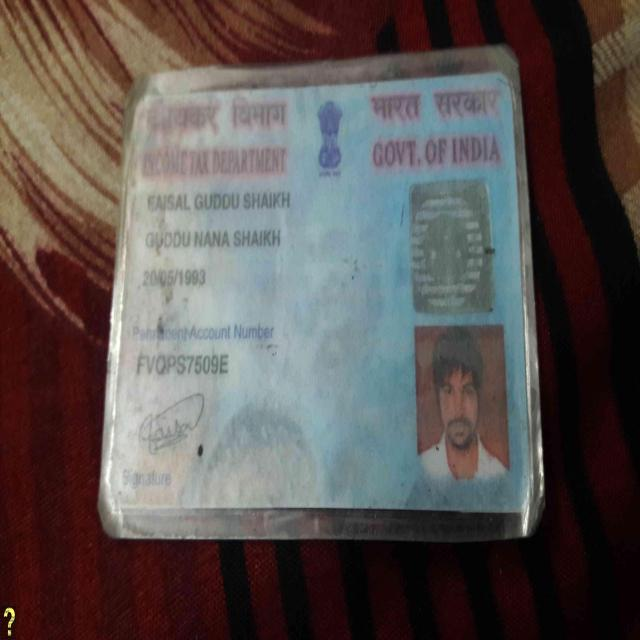pan_card: (114, 77, 527, 507)
